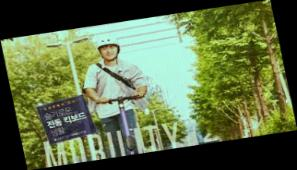helmet: (77, 32, 162, 159)
